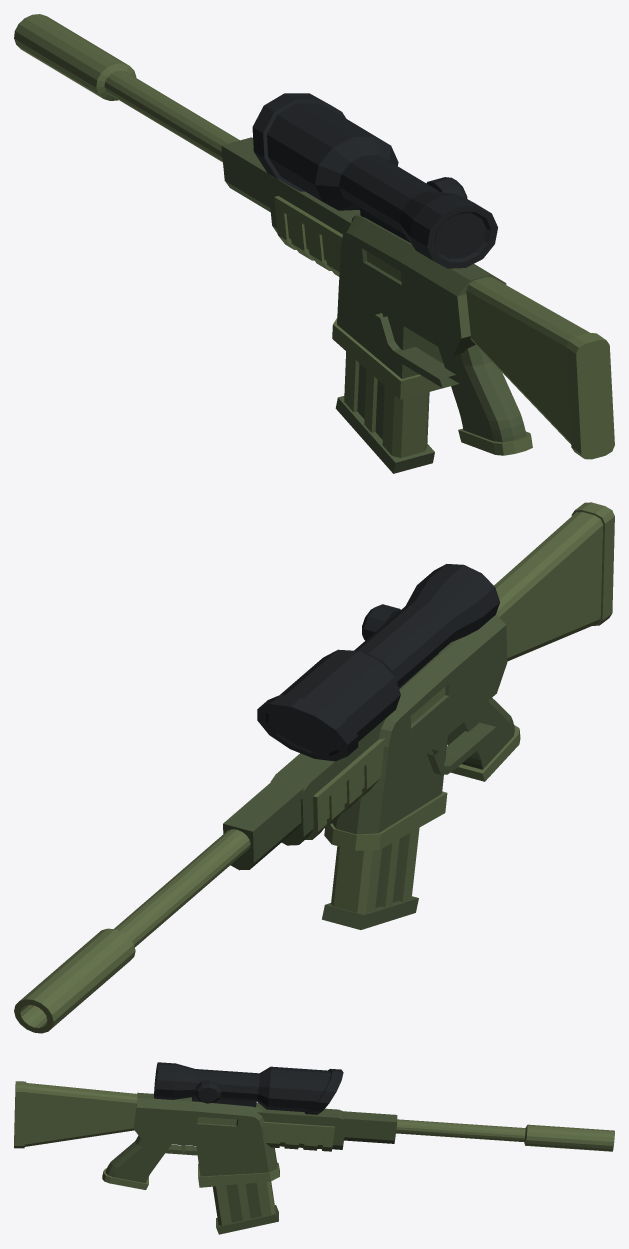
File: awp.glb
3 renders of one model, top to bottom at view 1: azimuth 30°, elevation 25°; view 2: azimuth 150°, elevation 25°; view 3: azimuth 270°, elevation 25°, orthographic. The views are drawn at different scales.
Parts seen in each view (by area): view 1: AWP; view 2: AWP; view 3: AWP.
Boxes of the visible parts, x1,y1,x2,y2 form: AWP: [14, 14, 614, 473]; AWP: [14, 502, 614, 1033]; AWP: [14, 1062, 614, 1234].
Size of the model in its own units: 0.1069 by 0.3439 by 1.15.
